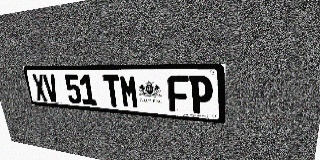1: (78, 74, 97, 105)
5: (64, 74, 82, 104)
F: (167, 75, 190, 113)
M: (119, 75, 140, 109)
P: (189, 75, 213, 115)
T: (103, 74, 122, 108)
V: (43, 74, 60, 102)
X: (31, 74, 48, 101)
